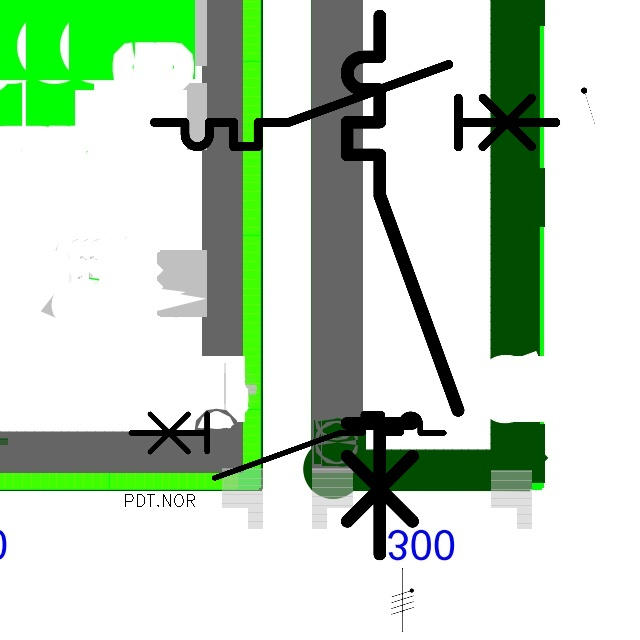interruptor_termomagnetico: (333, 2, 471, 568), (144, 54, 566, 157), (123, 406, 452, 486)
